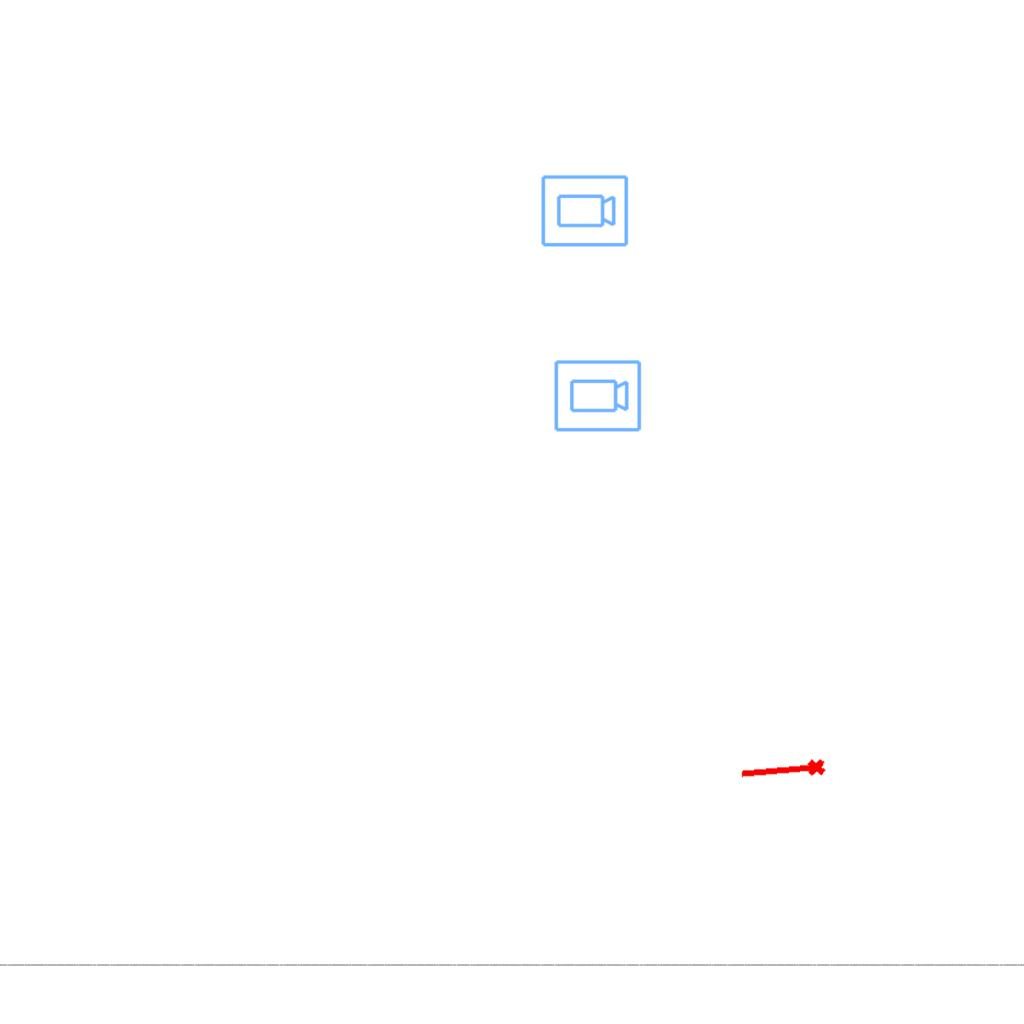ASR_Ansaugoeffnung: (738, 756, 828, 787)
KFO_Kamera_mit_Festobjektiv: (539, 173, 630, 250), (552, 358, 643, 435)
